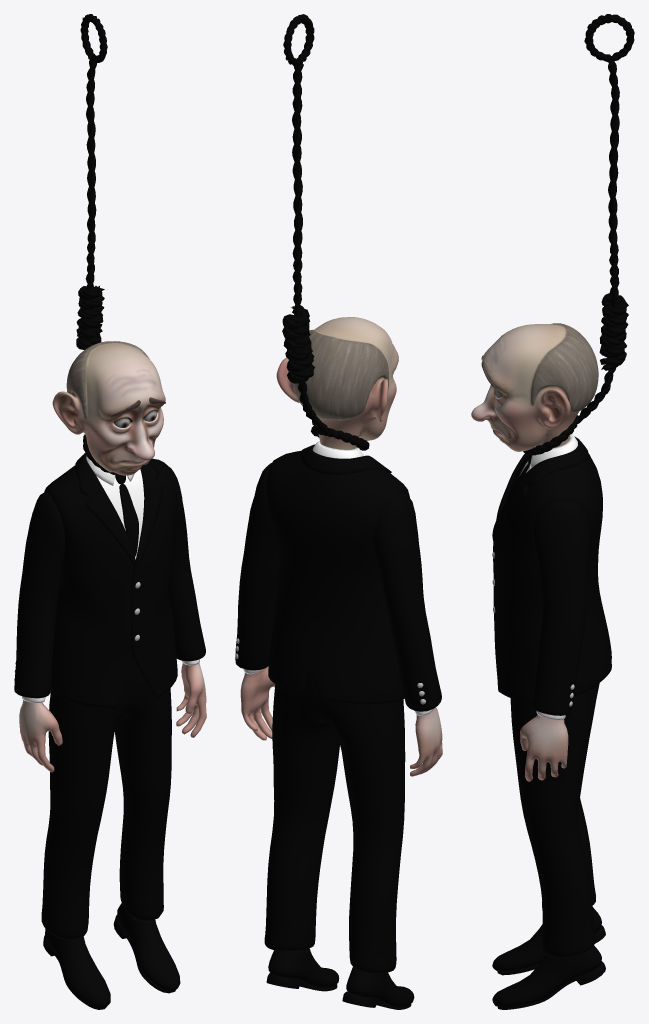
File: putin_with_rope.gltf
3 views of the same model, side by side, from view 1: azimuth 30°, elevation 25°; view 2: azimuth 150°, elevation 25°; view 3: azimuth 270°, elevation 25° (orthographic). The views are drawn at different scales.
Parts seen in each view (by area): view 1: putin; view 2: putin; view 3: putin.
Part boxes in pixels (x1,y1,x2,y2): putin: (14,14,206,1009); putin: (235,14,442,1009); putin: (471,14,634,1009).
Size of the model in its own units: 218 by 1058 by 160.
Materials: 17 (17 with a texture image).
